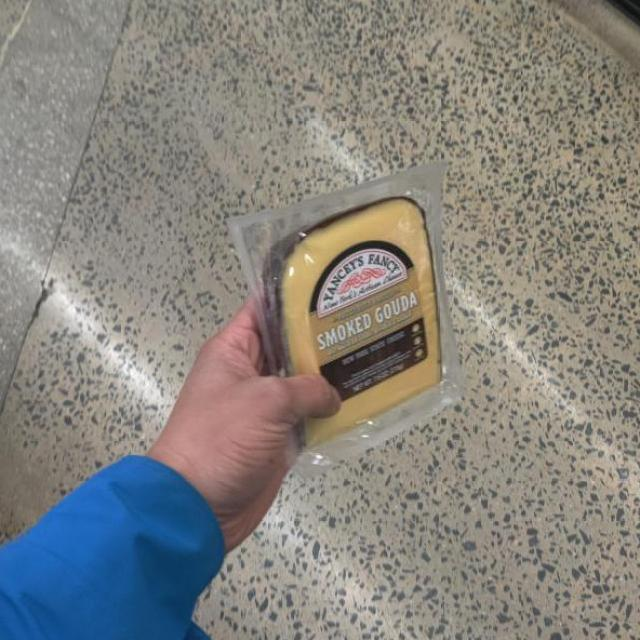Cheese: (252, 182, 474, 454)
